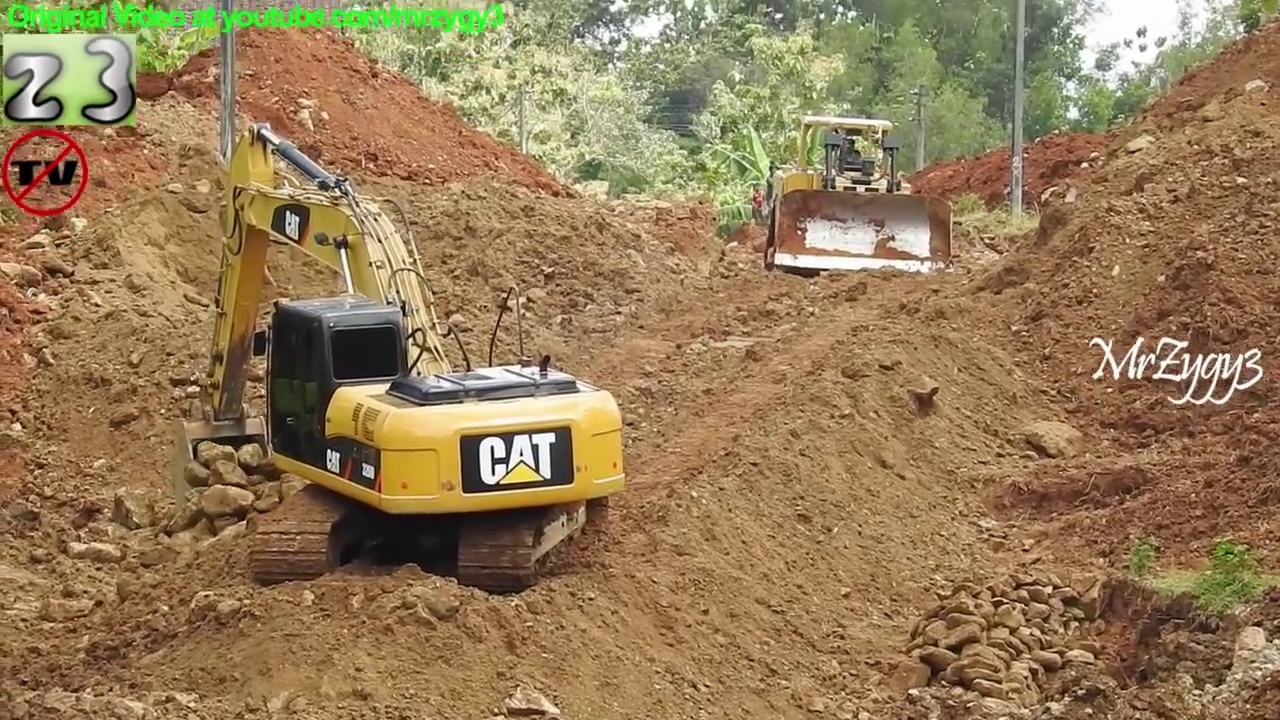bulldozer: (772, 110, 955, 275)
excavator: (183, 119, 624, 600)
person: (746, 182, 762, 214)
